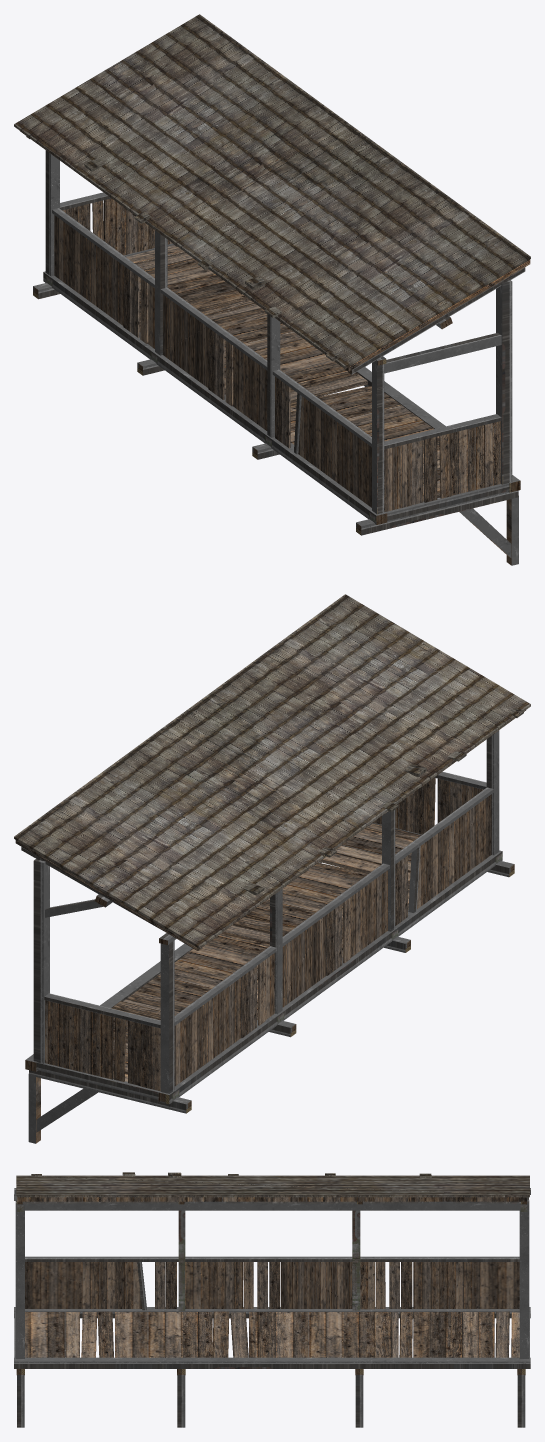
Rendered from MC_Castle_Hoarding_8m.fbx.
3 views of the same model, one above another, from view 1: azimuth 30°, elevation 25°; view 2: azimuth 150°, elevation 25°; view 3: azimuth 270°, elevation 25° (orthographic). The views are drawn at different scales.
Parts seen in each view (by area): view 1: MC_Castle_Hoarding_8m_LOD0; view 2: MC_Castle_Hoarding_8m_LOD0; view 3: MC_Castle_Hoarding_8m_LOD0.
Boxes of the visible parts, x1,y1,x2,y2 form: MC_Castle_Hoarding_8m_LOD0: (14,14,530,565); MC_Castle_Hoarding_8m_LOD0: (14,594,530,1143); MC_Castle_Hoarding_8m_LOD0: (14,1172,530,1427).
Size of what is drawn, in the model's own units: 264 by 404 by 801.
